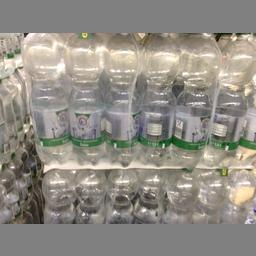water: (202, 34, 255, 164), (20, 32, 70, 165), (172, 33, 220, 170), (63, 32, 104, 163), (104, 32, 142, 166), (140, 34, 178, 164)
